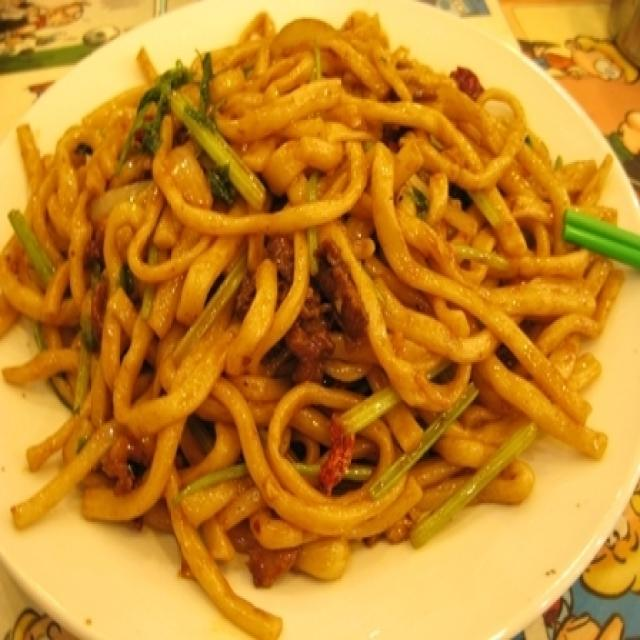面条主食: (17, 15, 597, 621)
